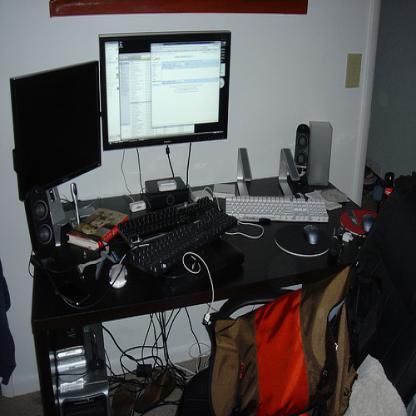bottle: (378, 171, 394, 210)
chair: (175, 174, 415, 415)
tvmonitor: (97, 30, 232, 151), (10, 60, 106, 203)
